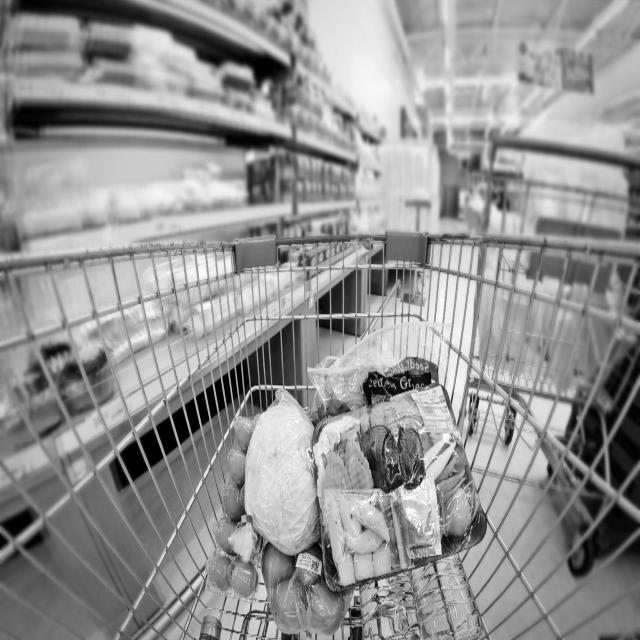apple: (255, 550, 352, 638)
bap cai: (244, 401, 334, 558)
egg: (204, 418, 274, 602)
grape: (353, 328, 448, 404)
